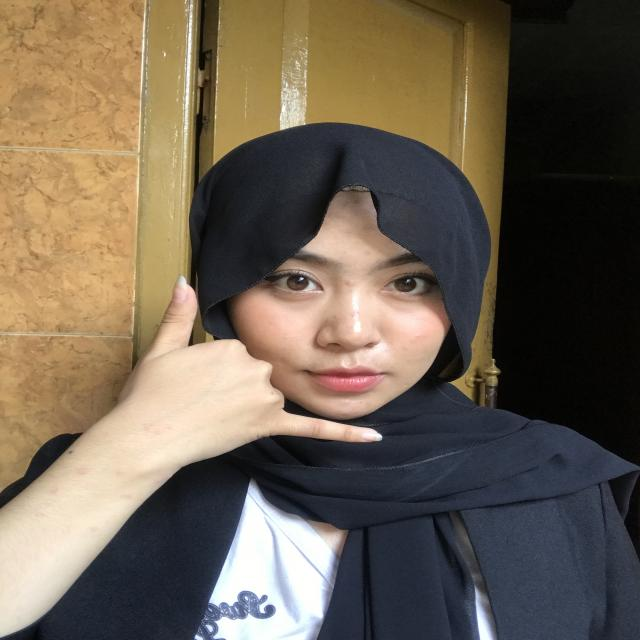telpon: (80, 272, 406, 462)
